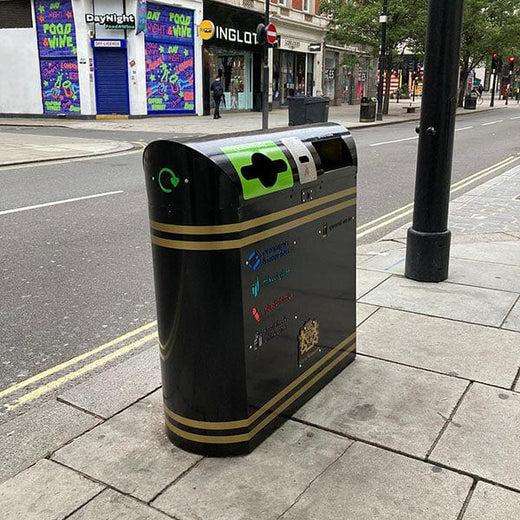trash bin: (139, 120, 363, 459)
